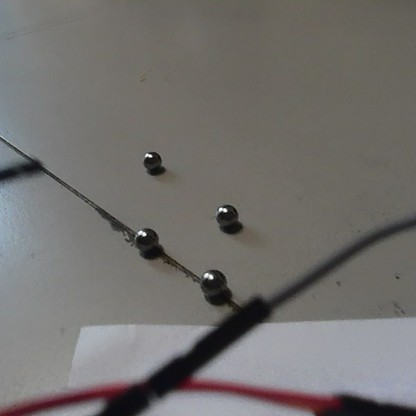ironball: (197, 265, 231, 300), (132, 225, 165, 253), (213, 201, 241, 230), (139, 147, 165, 172)
